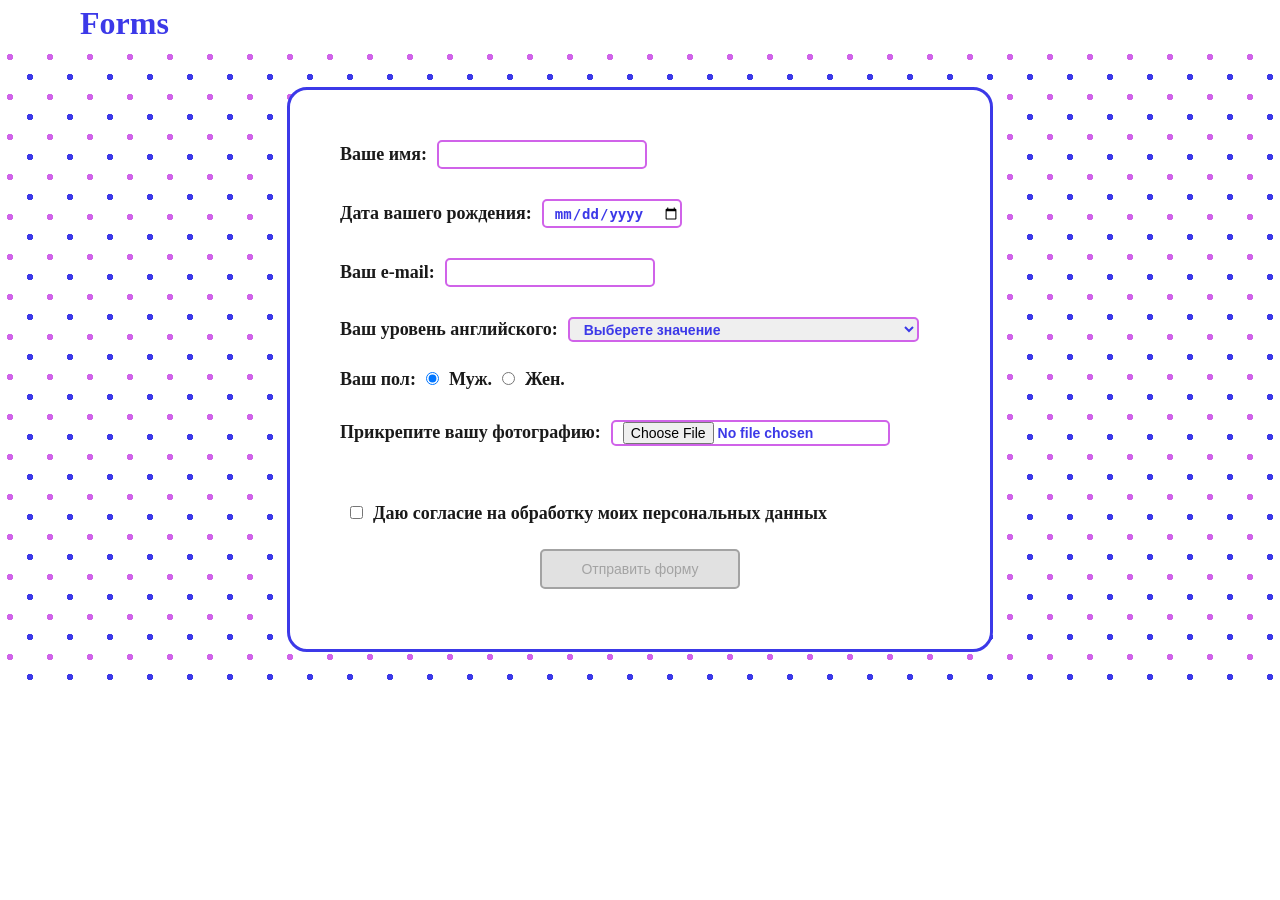
Test case: UserForms fields tests › Button is not disabled if some field has value
Check: the button with test id "user-form/submit-btn" is disabled, box [540,549,740,589]
Step 1. Type "t" into the field with test id "name" → coordinates (542, 154), box [437,140,647,169]
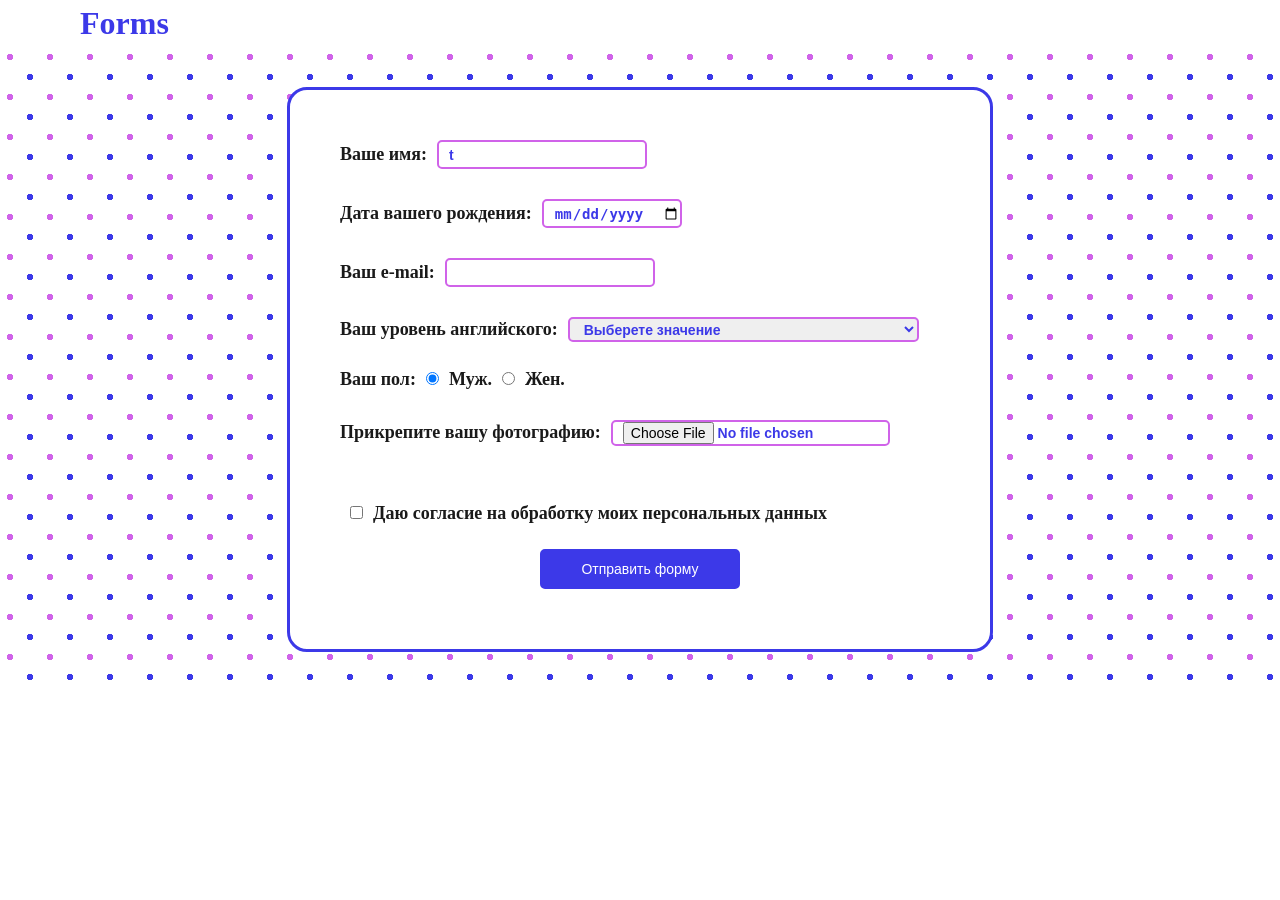
Check: the button with test id "user-form/submit-btn" is enabled, box [540,549,740,589]
